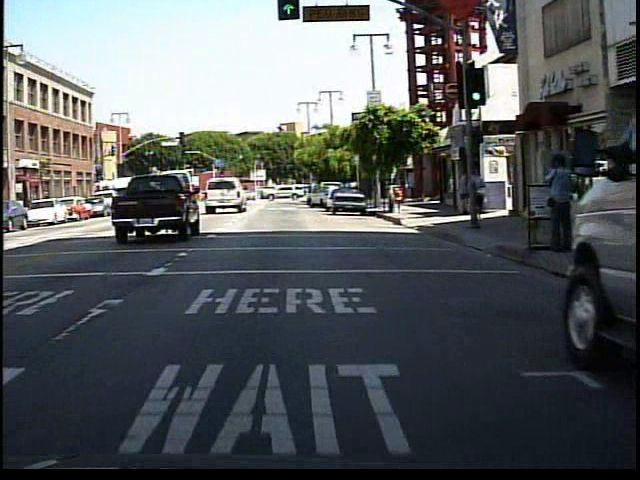person: (465, 162, 489, 229)
